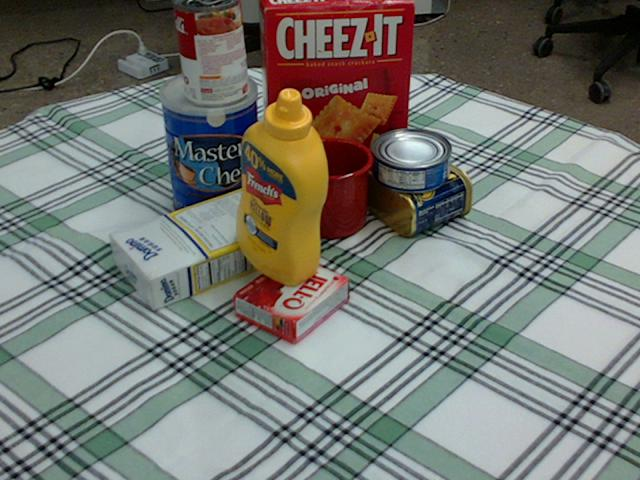cracker_box: (260, 0, 415, 186)
gelatin_box: (234, 254, 349, 343)
master_chef_can: (158, 69, 261, 225)
mug: (287, 135, 374, 237)
mustard_bottle: (236, 87, 327, 285)
potted_meat_can: (356, 141, 470, 233)
sugar_box: (107, 182, 302, 309)
tomato_soup_can: (173, 0, 247, 105)
tuna_fish_can: (370, 129, 450, 191)
